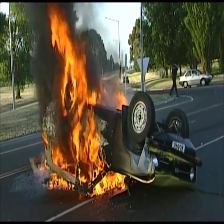fire_h: (48, 2, 110, 185), (85, 171, 126, 197), (44, 171, 75, 190)
fire_l: (114, 92, 127, 110), (39, 158, 50, 172), (41, 130, 48, 146)
